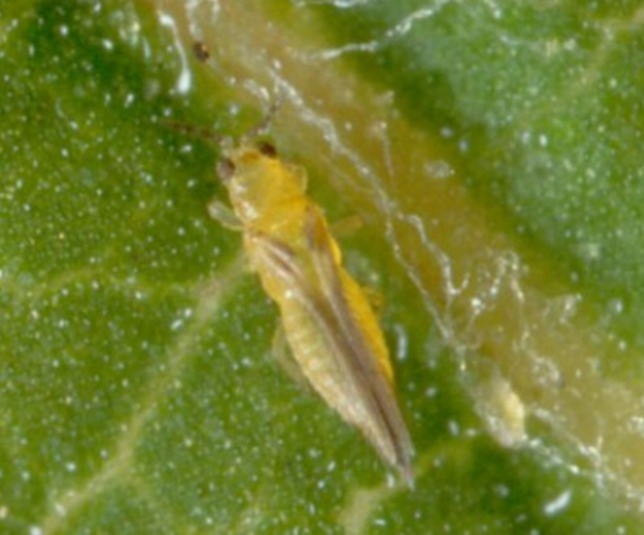Thrips: (211, 70, 433, 505)
